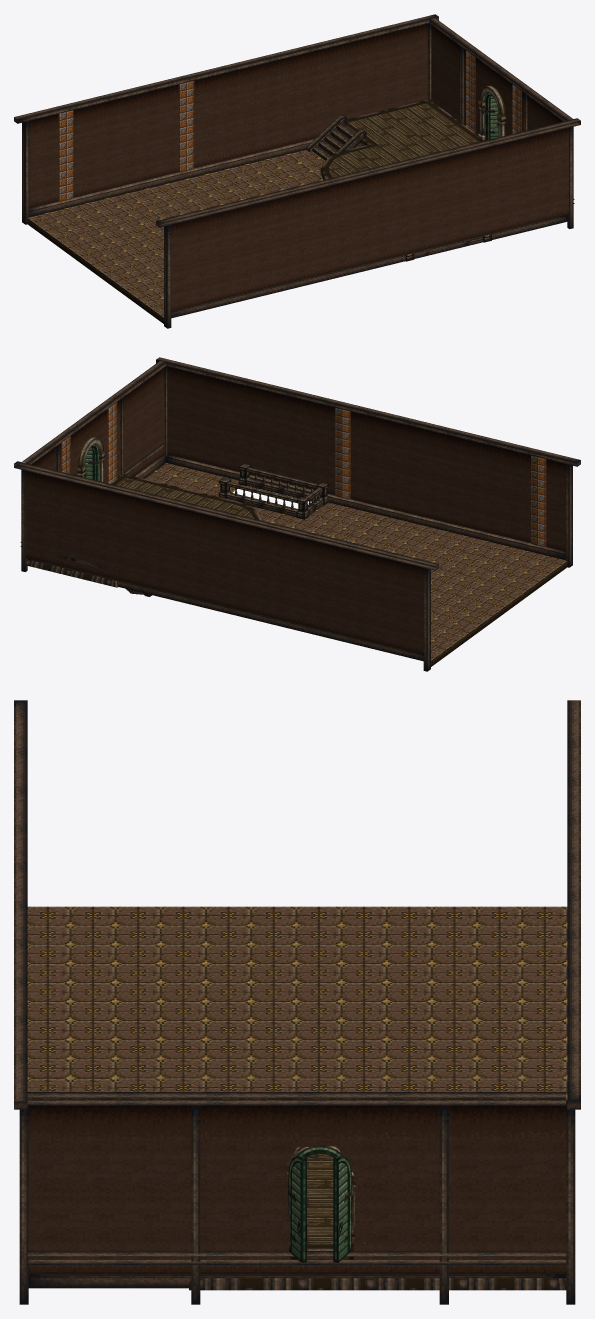
Rendered from EnvBdgMD_Sea_A_Indoor_Pub_A_2F.FBX.
3 renders of one model, top to bottom at view 1: azimuth 30°, elevation 25°; view 2: azimuth 150°, elevation 25°; view 3: azimuth 270°, elevation 25°, orthographic. The views are drawn at different scales.
Parts seen in each view (by area): view 1: EnvBdgMD_Sea_A_Indoor_Pub_A_2F; view 2: EnvBdgMD_Sea_A_Indoor_Pub_A_2F; view 3: EnvBdgMD_Sea_A_Indoor_Pub_A_2F.
Part boxes in pixels (left/top/right/bottom): EnvBdgMD_Sea_A_Indoor_Pub_A_2F: left=14, top=14, right=580, bottom=328; EnvBdgMD_Sea_A_Indoor_Pub_A_2F: left=14, top=357, right=580, bottom=671; EnvBdgMD_Sea_A_Indoor_Pub_A_2F: left=14, top=700, right=580, bottom=1304.
Bounding box in the file's own units: 2121 × 510 × 1255.
1 material, 1 textured.
